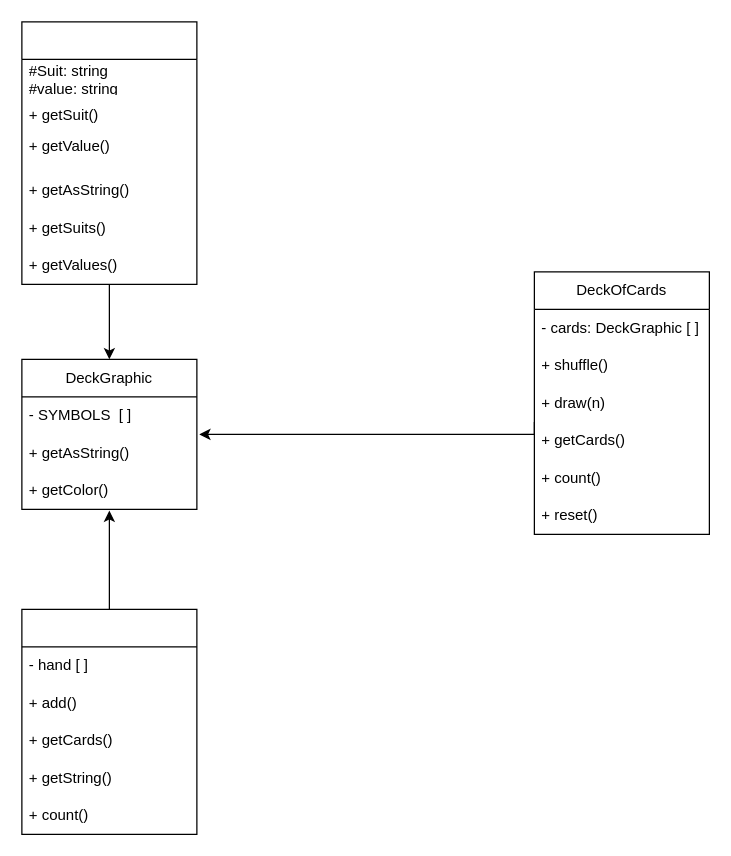
The diagram is 731 pixels wide and 856 high, and some of its shapes have lost their labels. The box of each missing label's shape, as (x1, y1, x2, y2) in pixels:
Deck: (21, 21, 197, 284)
DeckHand: (21, 608, 197, 834)
